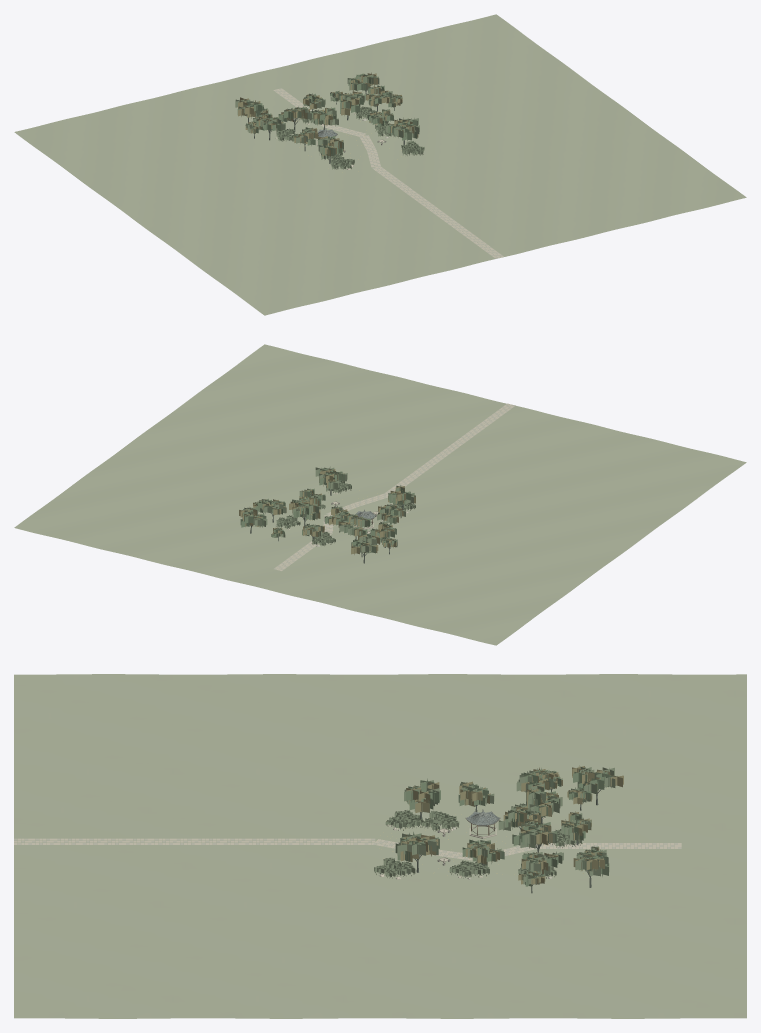
Rendered from osmanthus-rain.glb.
3 renders of one model, top to bottom at view 1: azimuth 30°, elevation 25°; view 2: azimuth 150°, elevation 25°; view 3: azimuth 270°, elevation 25°, orthographic. The views are drawn at different scales.
Visible parts, largest first — view 1: earth, crown1, crown0, crown2, stone, stone2; view 2: earth, crown1, crown0, crown2, stone, stone2; view 3: earth, crown1, crown2, crown0, stone, stone2.
Boxes of the visible parts, x1,y1,x2,y2 form: earth: [14, 14, 746, 315]; crown1: [235, 74, 424, 168]; crown0: [237, 73, 417, 156]; crown2: [238, 72, 418, 156]; stone: [273, 89, 503, 257]; stone2: [275, 88, 502, 258]; earth: [14, 344, 746, 645]; crown1: [244, 466, 415, 553]; crown0: [240, 468, 415, 553]; crown2: [239, 469, 415, 554]; stone: [275, 403, 514, 570]; stone2: [274, 404, 515, 569]; earth: [14, 674, 746, 1018]; crown1: [374, 766, 617, 884]; crown2: [400, 765, 623, 884]; crown0: [395, 768, 613, 886]; stone: [14, 817, 681, 879]; stone2: [14, 818, 681, 879].
Size of the model in its own units: 250 by 12.34 by 225.
